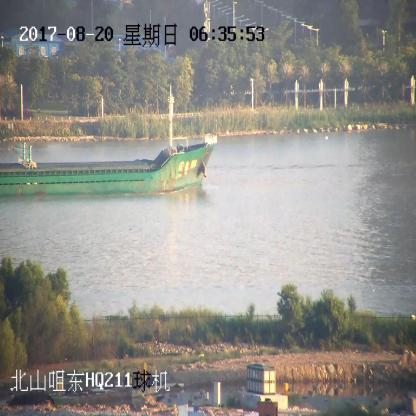Bulk Carrier: (0, 92, 218, 197)
